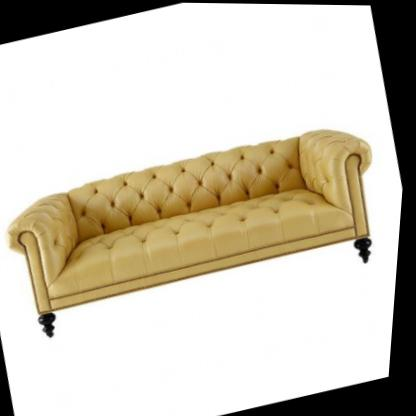Sofa: (0, 111, 403, 349)
